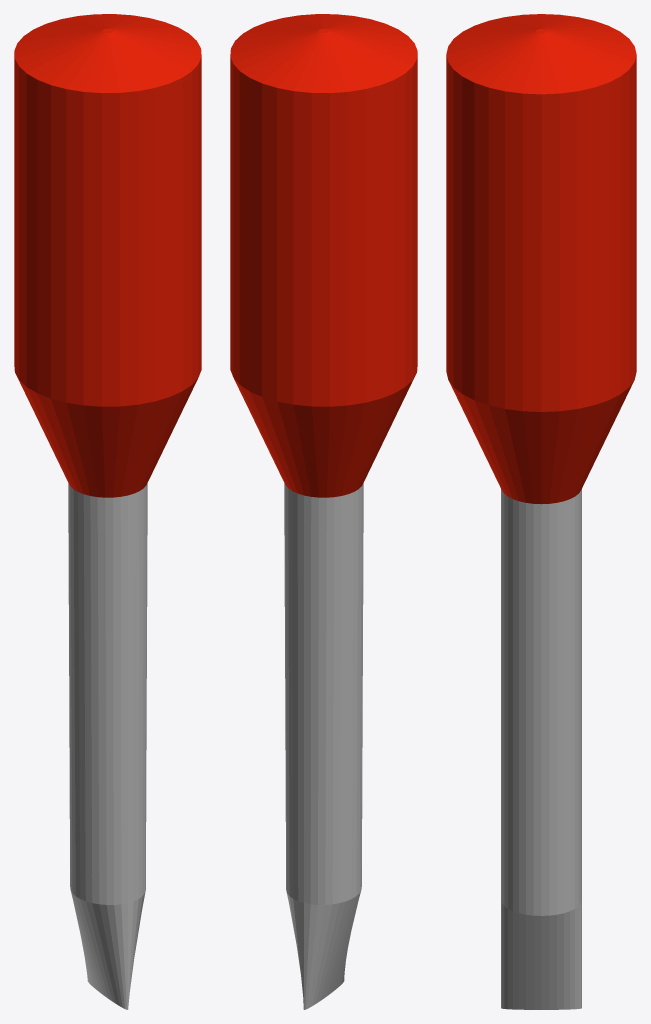
File: screwdriver.fbx
3 views of the same model, side by side, from view 1: azimuth 30°, elevation 25°; view 2: azimuth 150°, elevation 25°; view 3: azimuth 270°, elevation 25° (orthographic).
Visible parts, largest first — view 1: 圓柱體; view 2: 圓柱體; view 3: 圓柱體.
Boxes of the visible parts, x1,y1,x2,y2 form: 圓柱體: [14, 14, 201, 1009]; 圓柱體: [230, 14, 417, 1009]; 圓柱體: [446, 14, 636, 1009].
Size of the model in its own units: 206 by 1170 by 206.
